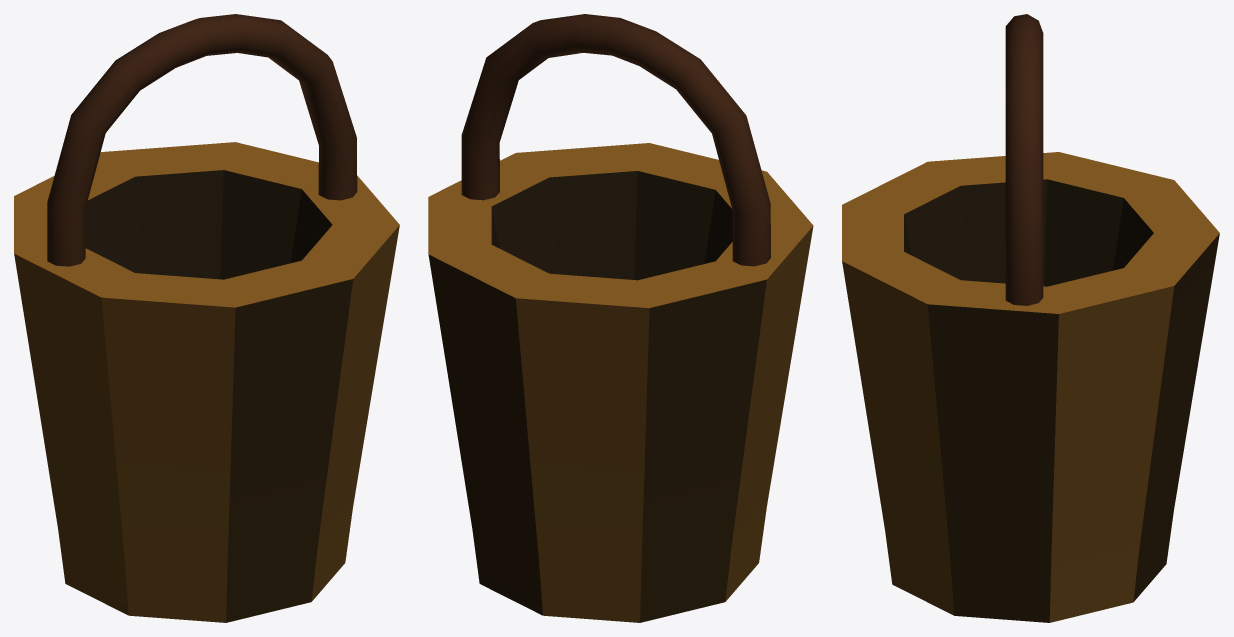
Rendered from VillagerBucket.fbx.
3 views of the same model, side by side, from view 1: azimuth 30°, elevation 25°; view 2: azimuth 150°, elevation 25°; view 3: azimuth 270°, elevation 25° (orthographic). The views are drawn at different scales.
Visible parts, largest first — view 1: VillagerBucket; view 2: VillagerBucket; view 3: VillagerBucket.
Boxes of the visible parts, left/top/right/bottom form: VillagerBucket: left=14, top=14, right=399, bottom=622; VillagerBucket: left=428, top=14, right=813, bottom=622; VillagerBucket: left=842, top=14, right=1219, bottom=622.
Size of the model in its own units: 26.1 by 40 by 25.7.
